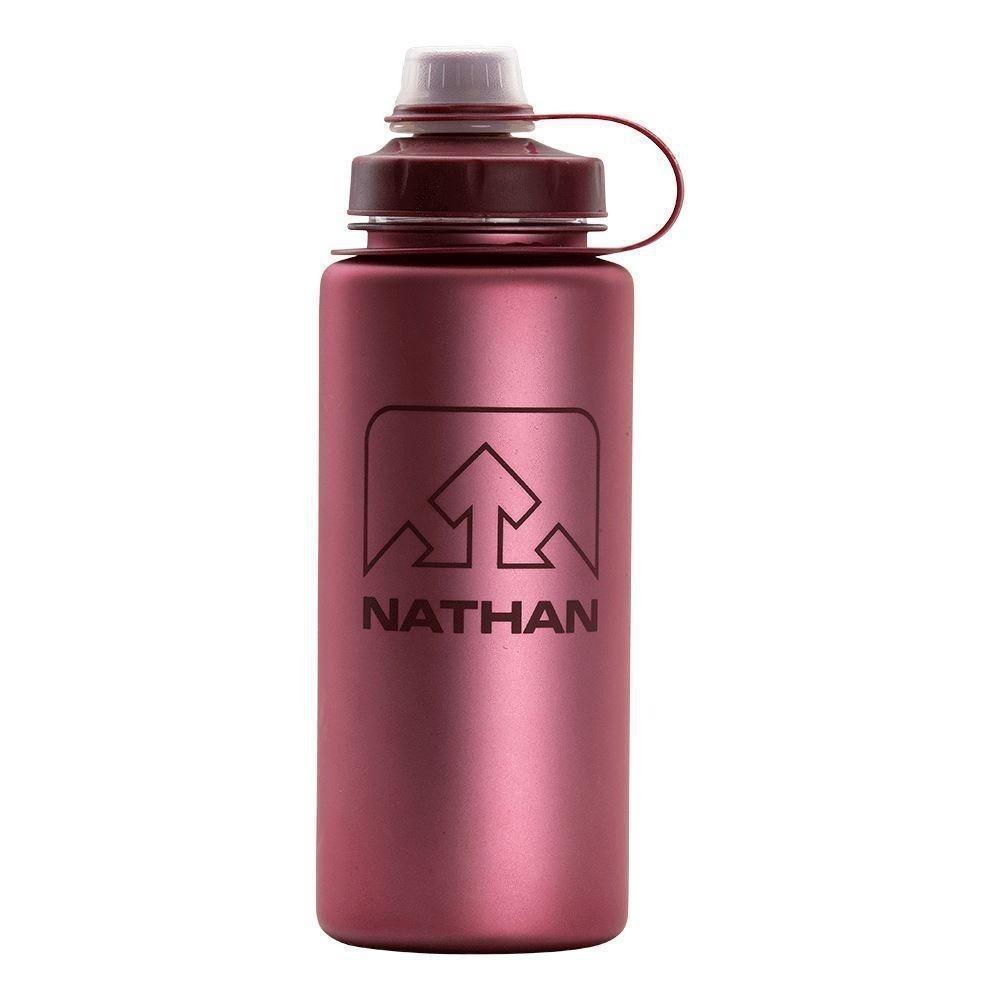gym bottle: (306, 31, 685, 964)
